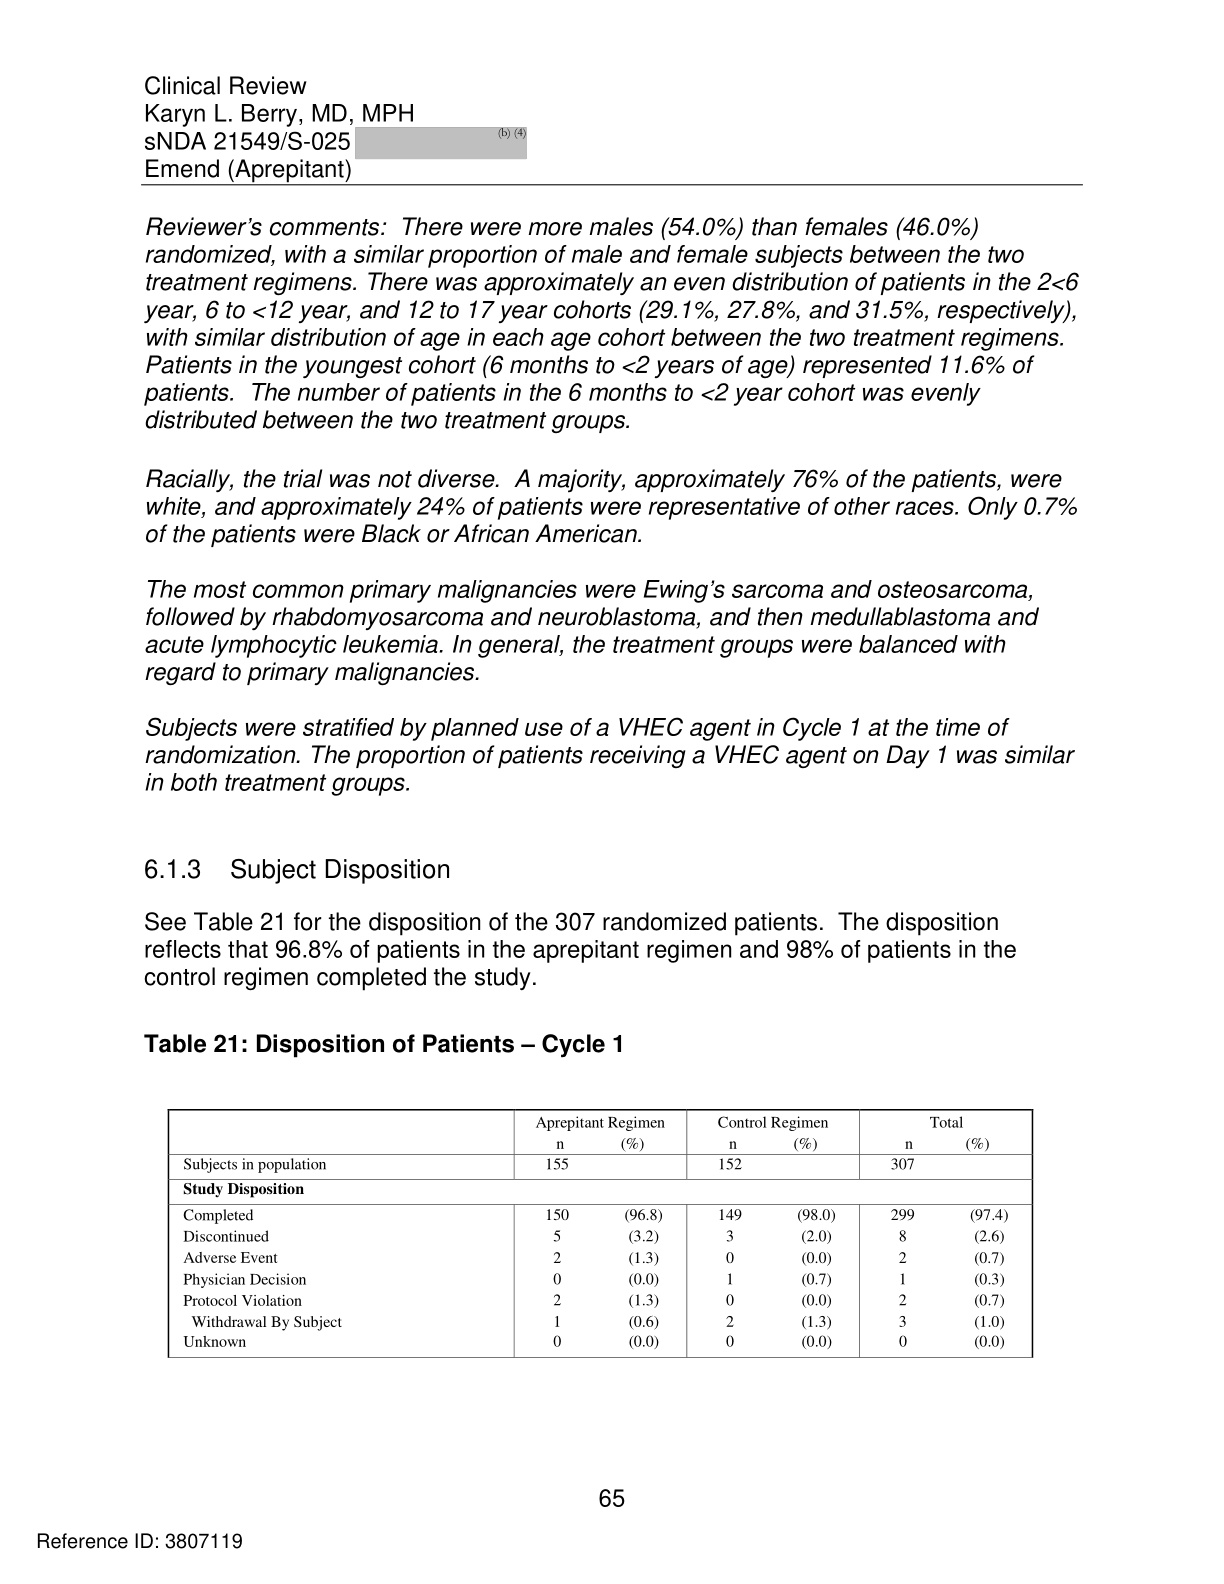partial_lined_merged_cells: (166, 1106, 1036, 1362)
